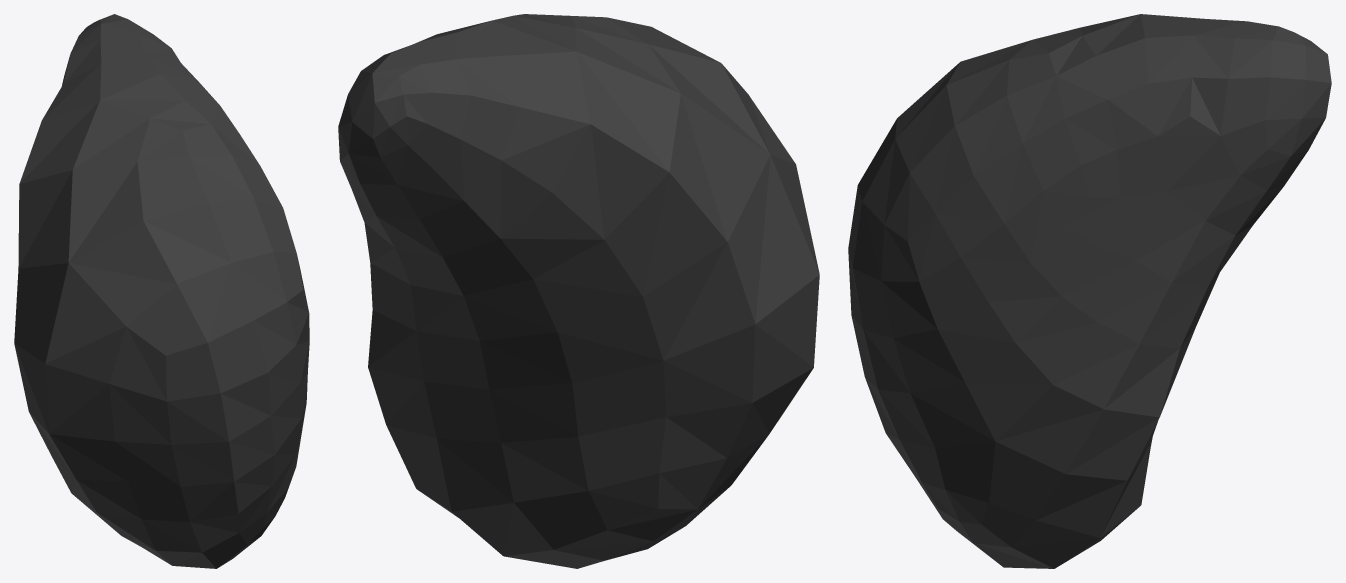
Rendered from LFL_humerus1.glb.
3 views of the same model, side by side, from view 1: azimuth 30°, elevation 25°; view 2: azimuth 150°, elevation 25°; view 3: azimuth 270°, elevation 25° (orthographic). The views are drawn at different scales.
Visible parts, largest first — view 1: LFL_humerus1; view 2: LFL_humerus1; view 3: LFL_humerus1.
Part boxes in pixels (bbox=[...]): LFL_humerus1: bbox=[14, 14, 309, 568]; LFL_humerus1: bbox=[338, 14, 819, 568]; LFL_humerus1: bbox=[848, 14, 1331, 568].
Size of the model in its own units: 7.48 by 11.35 by 9.33.
Materials: 1 (1 with a texture image).
